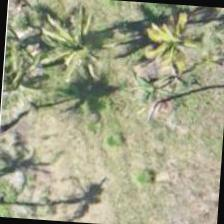Kelapa_Sawit: (34, 0, 131, 94), (124, 1, 218, 85), (0, 29, 59, 123)
